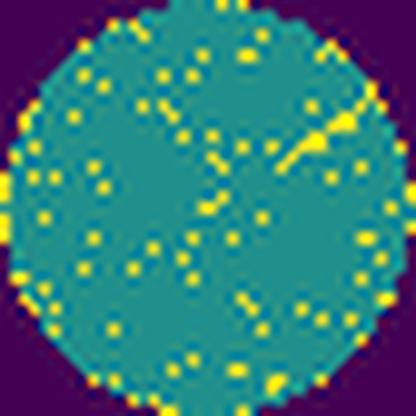Scratch: (270, 86, 374, 182)
